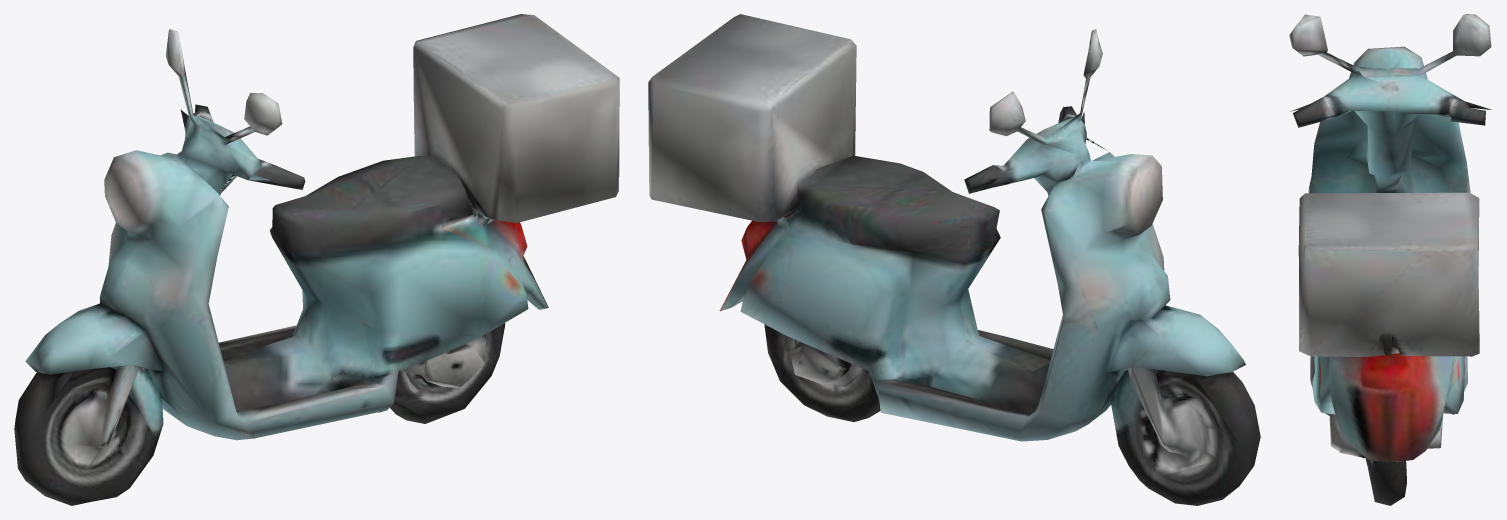
Rendered from vehicle-scooter.glb.
3 views of the same model, side by side, from view 1: azimuth 30°, elevation 25°; view 2: azimuth 150°, elevation 25°; view 3: azimuth 270°, elevation 25° (orthographic). The views are drawn at different scales.
Bounding box in the file's own units: 2 × 1.39 × 0.6652.
Materials: 1 (1 with a texture image).
